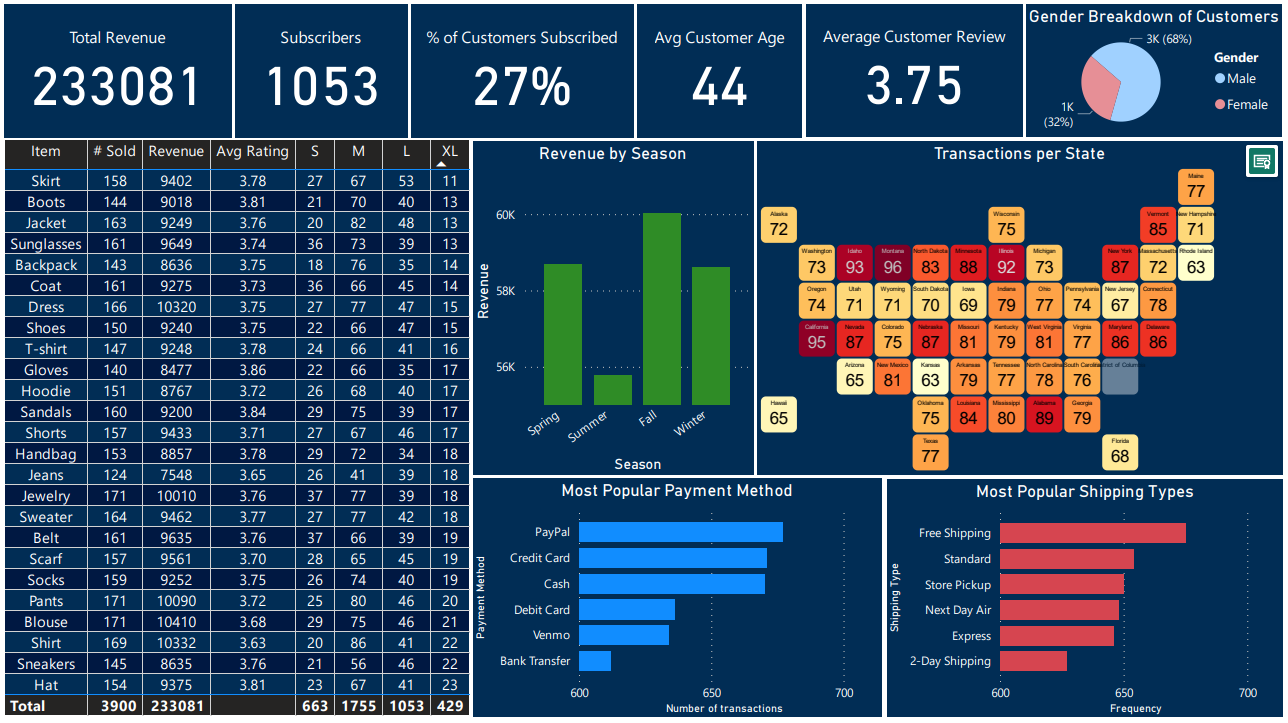

Layout of this report page (visuals, bound fields, positions):
{"tool":"powerbi","page":{"name":"Page 1","canvas":[1280,720],"ordinal":0},"visuals":[{"type":"textbox","box":[10,201.5,188,150],"z":0},{"type":"cardVisual","fields":{"Data":["Sum(total_revenue.TotalRevenue)"]},"box":[0,0,231,137],"z":1000},{"type":"clusteredColumnChart","title":"Revenue by Season","fields":{"Y":["Sum(season_revenue.Revenue)"],"Category":["season_revenue.Season"]},"box":[470.5,139,280.5,332.5],"z":2000},{"type":"tableEx","fields":{"Values":["items_by_revenue.Item_Purchased","Sum(items_by_number_purchased.count)","Sum(items_by_revenue.Revenue)","items_ratings.avg_review_rating","Sum(customer_sizes_per_item.small)","Sum(customer_sizes_per_item.medium)","Sum(customer_sizes_per_item.large)","Sum(customer_sizes_per_item.extra_large)"]},"box":[0,136,470.4,584],"z":3000},{"type":"barChart","title":"Most Popular Payment Method","fields":{"Category":["payment_methods.Payment_Method"],"Y":["Sum(payment_methods.count)"]},"box":[470.7,476,408,238],"z":4000},{"type":"cardVisual","fields":{"Data":["Sum(customers_subscriptions.subscribed_count)"]},"box":[231,0,176,137],"z":5000},{"type":"cardVisual","fields":{"Data":["Sum(average_age.average_age)"]},"box":[633,0,169,137],"z":6000},{"type":"pieChart","title":"Gender Breakdown of Customers","fields":{"Category":["number_by_gender.Gender"],"Y":["Sum(number_by_gender.count)"]},"box":[1023.6,1.8,256.4,131.8],"z":7000},{"type":"barChart","title":"Most Popular Shipping Types","fields":{"Category":["shipping_type_popularity.Shipping_Type"],"Y":["Sum(shipping_type_popularity.frequency)"]},"box":[885.3,476.7,395.3,237.3],"z":8000},{"type":"cardVisual","fields":{"Data":["Sum(customers_subscriptions.subscribed_percentage)"]},"box":[407,0,226,137],"z":9000},{"type":"tileGridMap4ADB0BB099364EC1BD025992D6A7BAD5","title":"Transactions per State","fields":{"tileGroup":["location_popularity.Location"],"tileMetric":["Sum(location_popularity.count)"]},"box":[755.2,138.8,525,333.2],"z":10000},{"type":"cardVisual","fields":{"Data":["Avg(items_ratings.avg_review_rating)"]},"box":[802.3,0,221.5,136.9],"z":10001}]}

Visuals, with their boxes in screenshot pixels (x1, y1, x2, y2), scaled from the page's 1280x720 canvas onto the 1288x723 screenshot:
textbox: x1=10 y1=202 x2=199 y2=353
cardVisual - Sum(total_revenue.TotalRevenue): x1=0 y1=0 x2=232 y2=138
"Revenue by Season" clusteredColumnChart: x1=473 y1=140 x2=756 y2=473
tableEx - items_by_revenue.Item_Purchased x Sum(items_by_number_purchased.count): x1=0 y1=137 x2=473 y2=722
"Most Popular Payment Method" barChart: x1=474 y1=478 x2=884 y2=717
cardVisual - Sum(customers_subscriptions.subscribed_count): x1=232 y1=0 x2=410 y2=138
cardVisual - Sum(average_age.average_age): x1=637 y1=0 x2=807 y2=138
"Gender Breakdown of Customers" pieChart: x1=1030 y1=2 x2=1287 y2=134
"Most Popular Shipping Types" barChart: x1=891 y1=479 x2=1287 y2=717
cardVisual - Sum(customers_subscriptions.subscribed_percentage): x1=410 y1=0 x2=637 y2=138
"Transactions per State" tileGridMap4ADB0BB099364EC1BD025992D6A7BAD5: x1=760 y1=139 x2=1287 y2=474
cardVisual - Avg(items_ratings.avg_review_rating): x1=807 y1=0 x2=1030 y2=137
